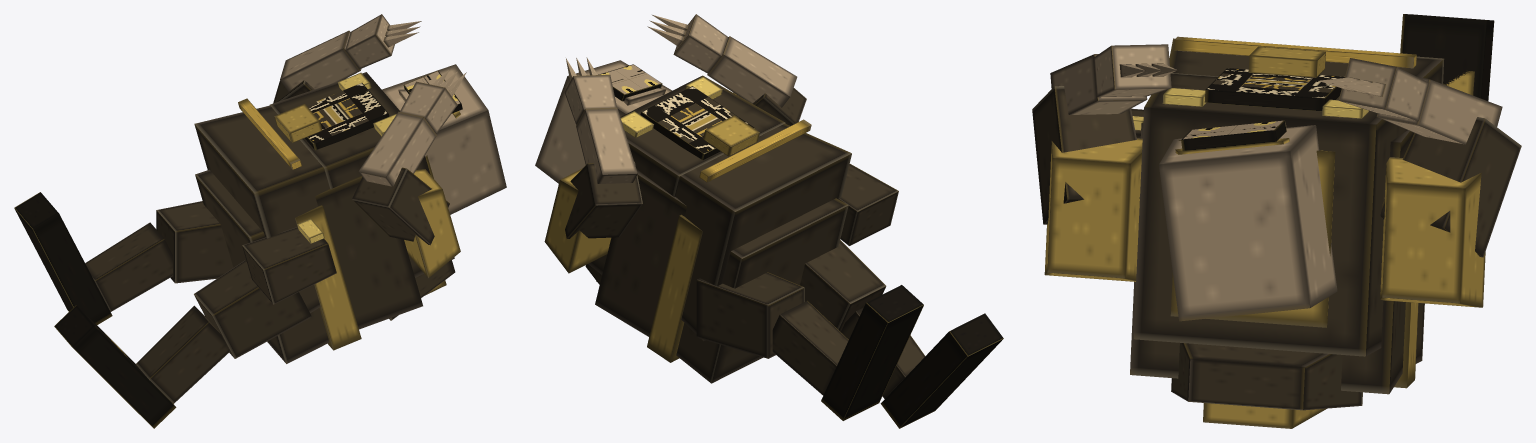
The model's file is margor_death.obj.
3 renders of one model, left to right at view 1: azimuth 30°, elevation 25°; view 2: azimuth 150°, elevation 25°; view 3: azimuth 270°, elevation 25°, orthographic. The views are drawn at different scales.
Visible parts, largest first — view 1: margor_death; view 2: margor_death; view 3: margor_death.
Part boxes in pixels (x1=…): margor_death: x1=14, y1=14, x2=506, y2=428; margor_death: x1=535, y1=14, x2=1003, y2=428; margor_death: x1=1032, y1=14, x2=1521, y2=428.
Size of the model in its own units: 1.09 by 0.7247 by 0.6883.
1 material, 1 textured.
